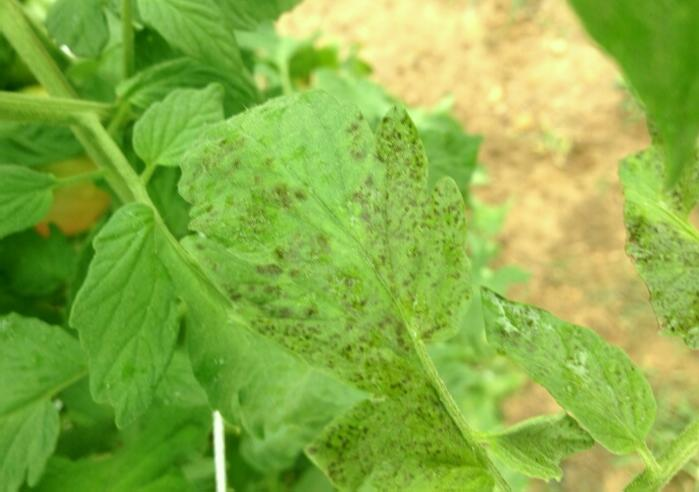Tomato Septoria leaf spot: (181, 101, 457, 380), (487, 281, 649, 457), (285, 398, 570, 491)
